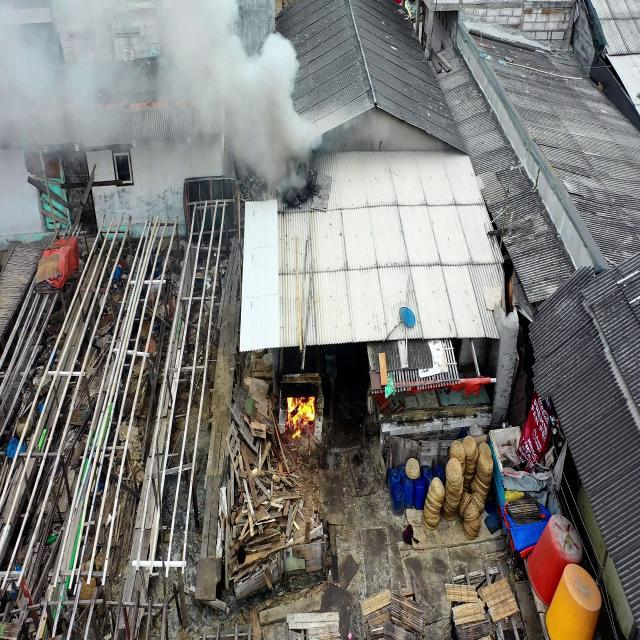Fire: (286, 392, 320, 440)
Smoke: (0, 0, 333, 218)
